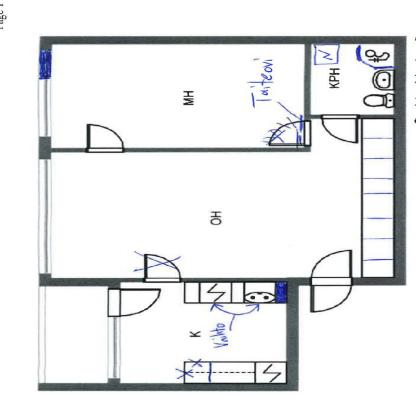door: (310, 248, 362, 320), (83, 123, 130, 161), (108, 288, 160, 318), (140, 252, 186, 285), (255, 120, 314, 145), (320, 113, 360, 146)
window: (38, 161, 55, 274), (41, 286, 51, 384), (37, 76, 53, 137)
zone: (53, 122, 389, 275), (52, 42, 304, 148), (118, 282, 286, 383), (48, 286, 112, 383), (311, 43, 393, 114)
